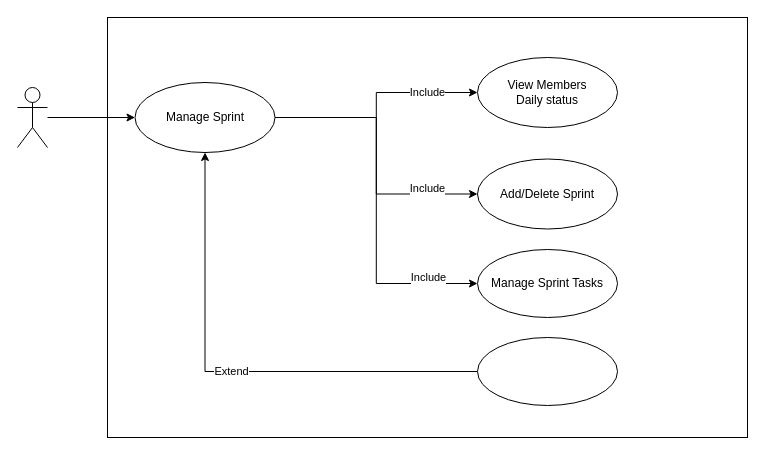
This 765x455 diagram has some shape labels left out. Here are the shapes that lost their labels. From the top down, the box of each, then its label:
(16, 86, 48, 148): User
(476, 336, 618, 406): Sprint Reports
